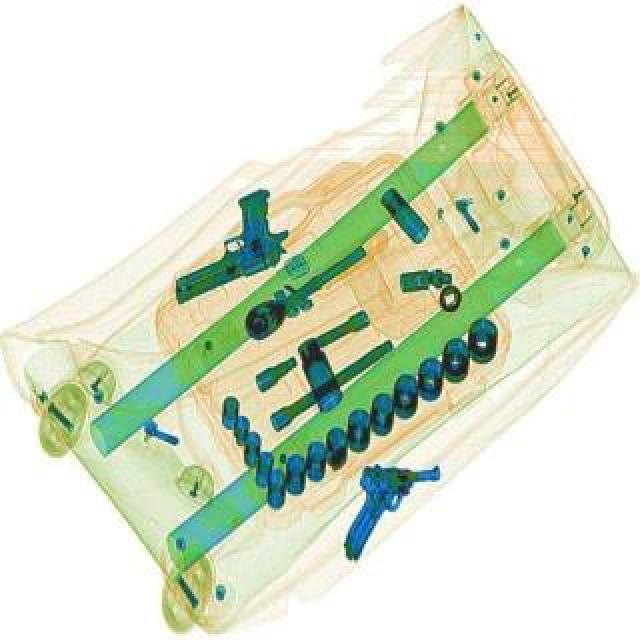gun: (144, 190, 302, 310), (344, 468, 440, 564)
